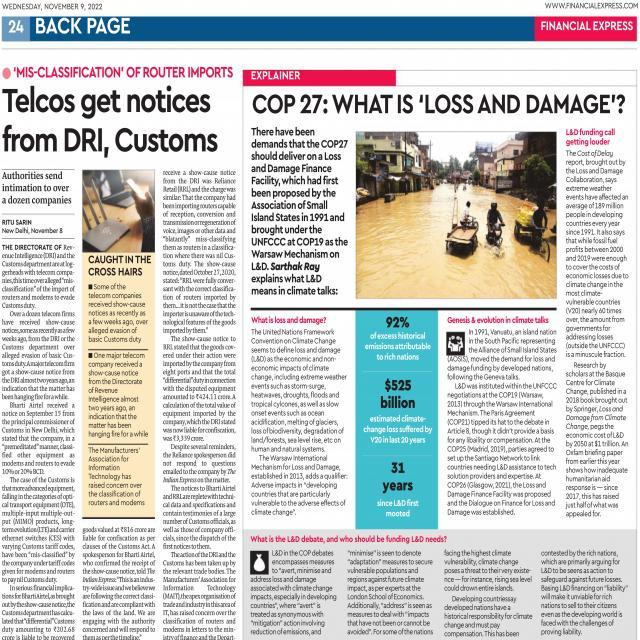Article: (248, 88, 633, 522), (0, 63, 238, 640), (246, 531, 640, 640)
Body: (162, 168, 237, 640), (0, 243, 76, 640), (565, 149, 631, 519), (444, 328, 558, 520), (251, 326, 348, 516), (82, 526, 156, 640), (443, 548, 534, 640), (249, 548, 339, 640), (345, 548, 433, 640), (540, 549, 628, 640), (87, 350, 149, 438), (88, 282, 148, 344), (88, 446, 146, 508)
Date: (2, 2, 104, 10)
Heading: (2, 85, 218, 158), (252, 91, 626, 118)
Highlights: (252, 125, 349, 298), (364, 378, 434, 446), (364, 315, 432, 363), (1, 170, 74, 207), (377, 460, 420, 520), (250, 534, 448, 543), (89, 255, 152, 278), (564, 126, 618, 146), (250, 314, 328, 326), (447, 315, 550, 324)
Image: (357, 131, 556, 299), (83, 170, 154, 252)
Name: (34, 16, 133, 34), (541, 18, 634, 34)
